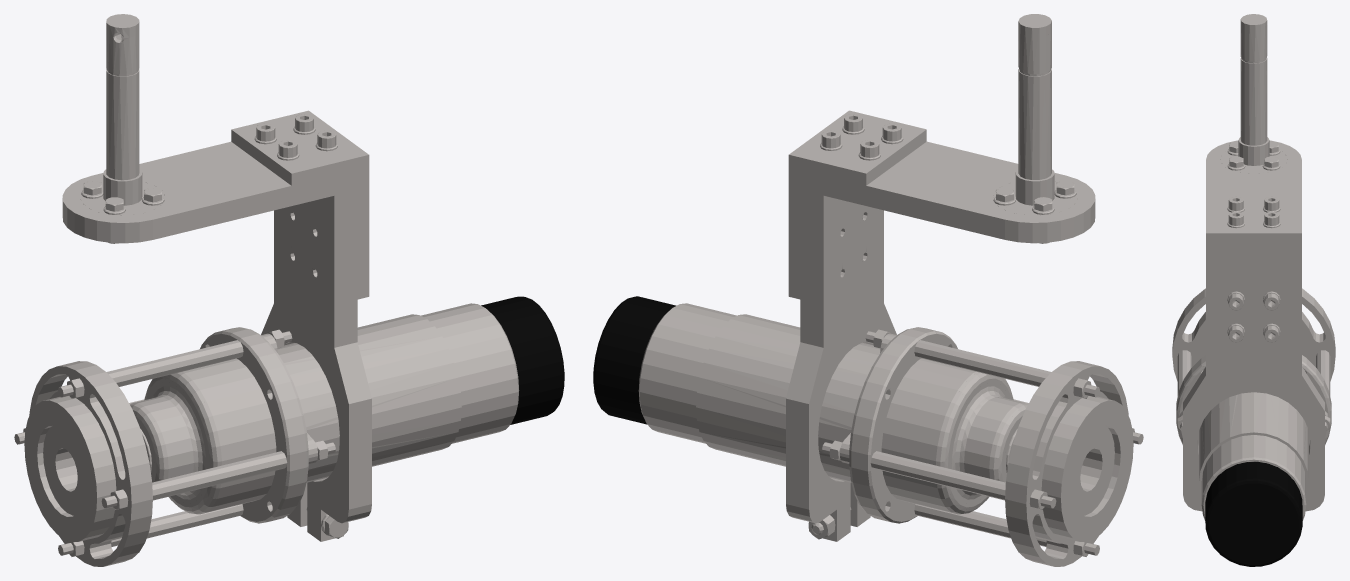
Rendered from support_link.dae.
3 renders of one model, left to right at view 1: azimuth 30°, elevation 25°; view 2: azimuth 150°, elevation 25°; view 3: azimuth 270°, elevation 25°, orthographic. The views are drawn at different scales.
Parts seen in each view (by area): view 1: Support_Link; view 2: Support_Link; view 3: Support_Link.
Part boxes in pixels (x1,y1,x2,y2): Support_Link: (14, 14, 564, 566); Support_Link: (593, 14, 1143, 566); Support_Link: (1172, 14, 1335, 566).
Bounding box in the file's own units: 0.245 × 0.092 × 0.2725.
1 material, 1 textured.
